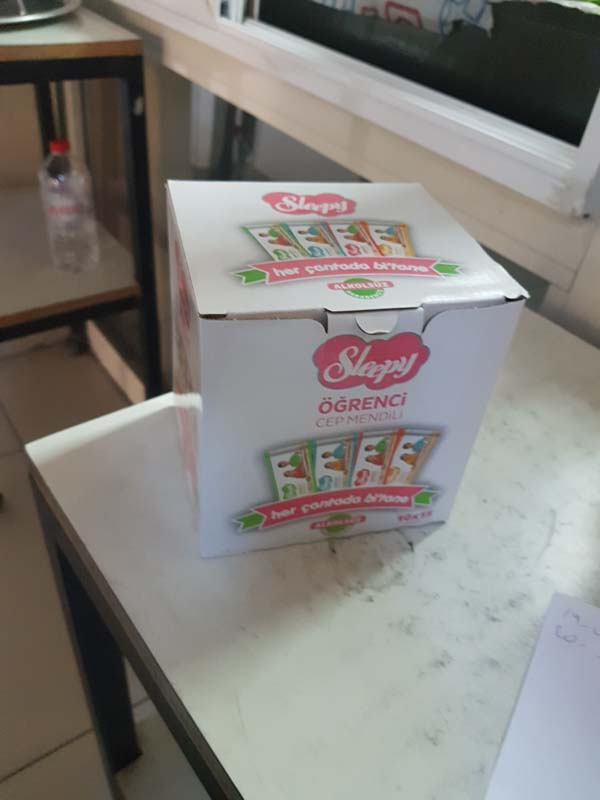sleepyogrencikoli: (151, 173, 539, 547)
